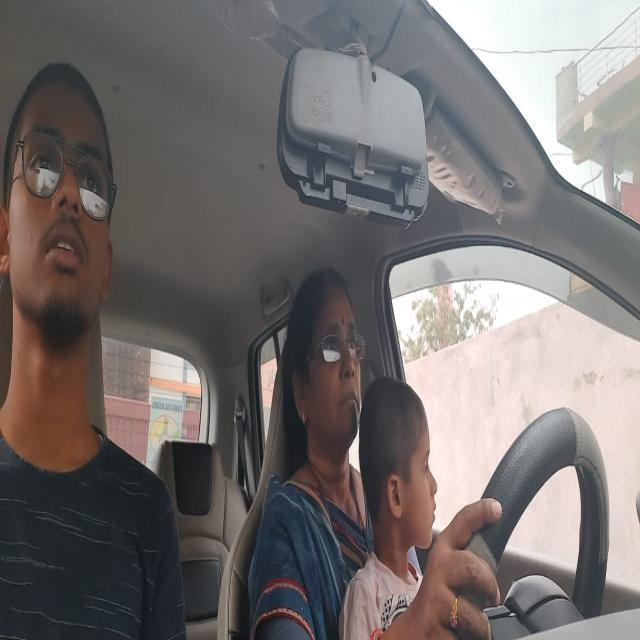child: (357, 373, 438, 572)
person: (2, 60, 117, 368), (285, 248, 361, 476)
